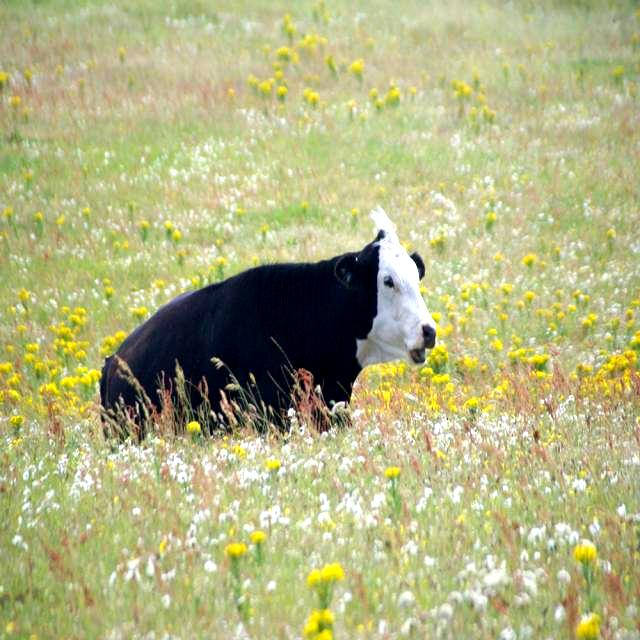COW: (100, 207, 436, 436)
